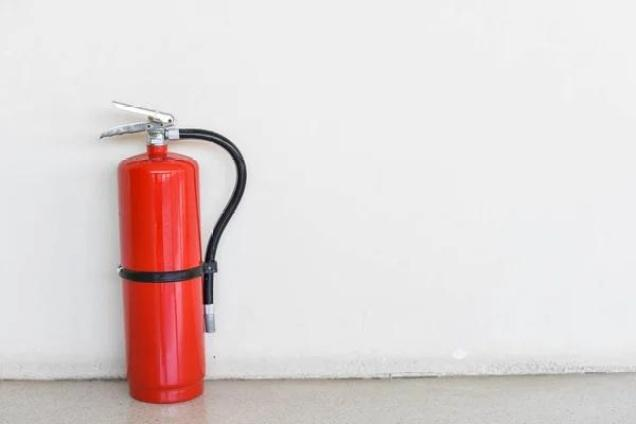APAR: (97, 99, 206, 404)
